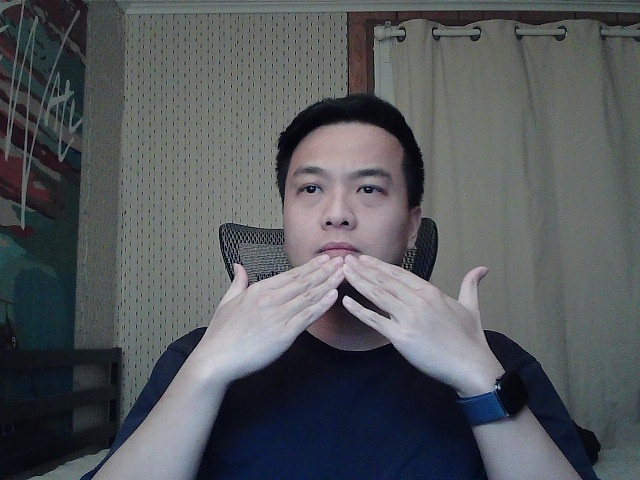Thank You: (195, 247, 505, 384)
